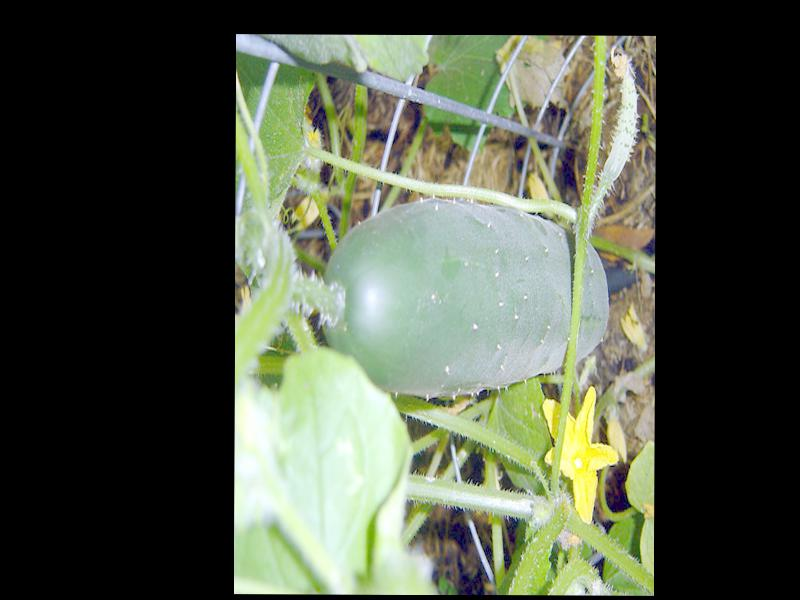Cucumber: (322, 195, 607, 396)
